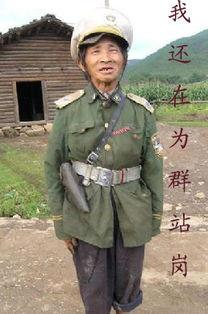up: (43, 6, 161, 314)
